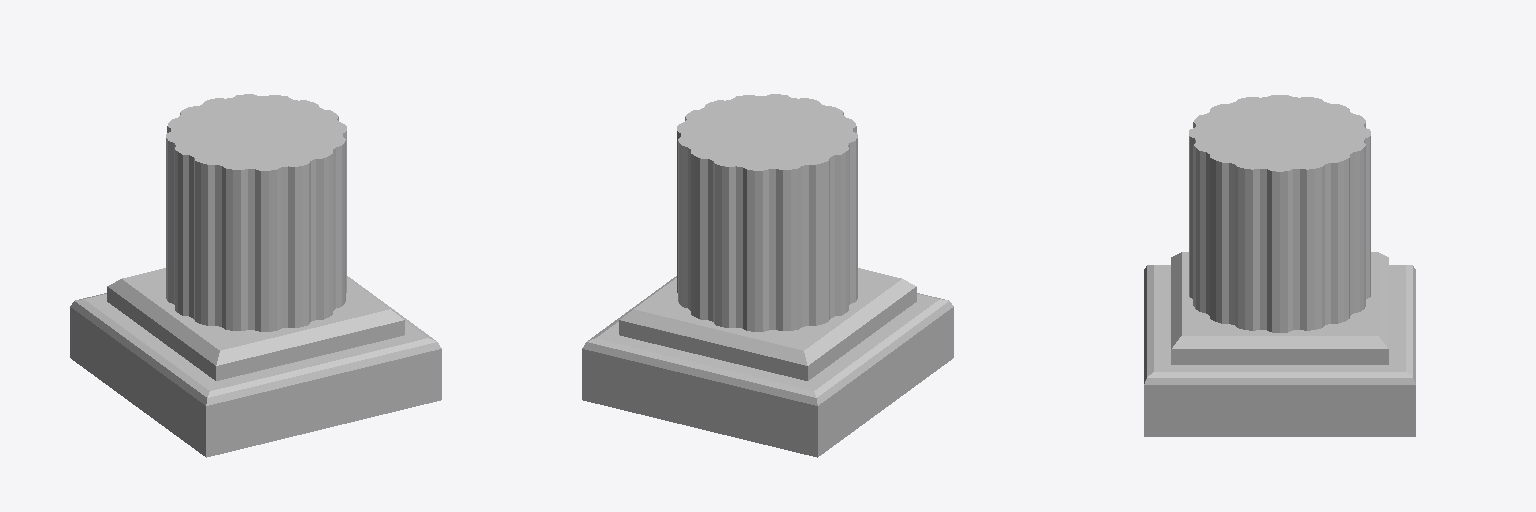
The model's file is Marblepillarbase.obj.
3 renders of one model, left to right at view 1: azimuth 30°, elevation 25°; view 2: azimuth 150°, elevation 25°; view 3: azimuth 270°, elevation 25°, orthographic.
Parts seen in each view (by area): view 1: Circle; view 2: Circle; view 3: Circle.
Part boxes in pixels (bbox=[...]): Circle: bbox=[70, 94, 441, 457]; Circle: bbox=[582, 94, 953, 457]; Circle: bbox=[1144, 95, 1415, 436].
Size of the model in its own units: 1 by 1 by 1.